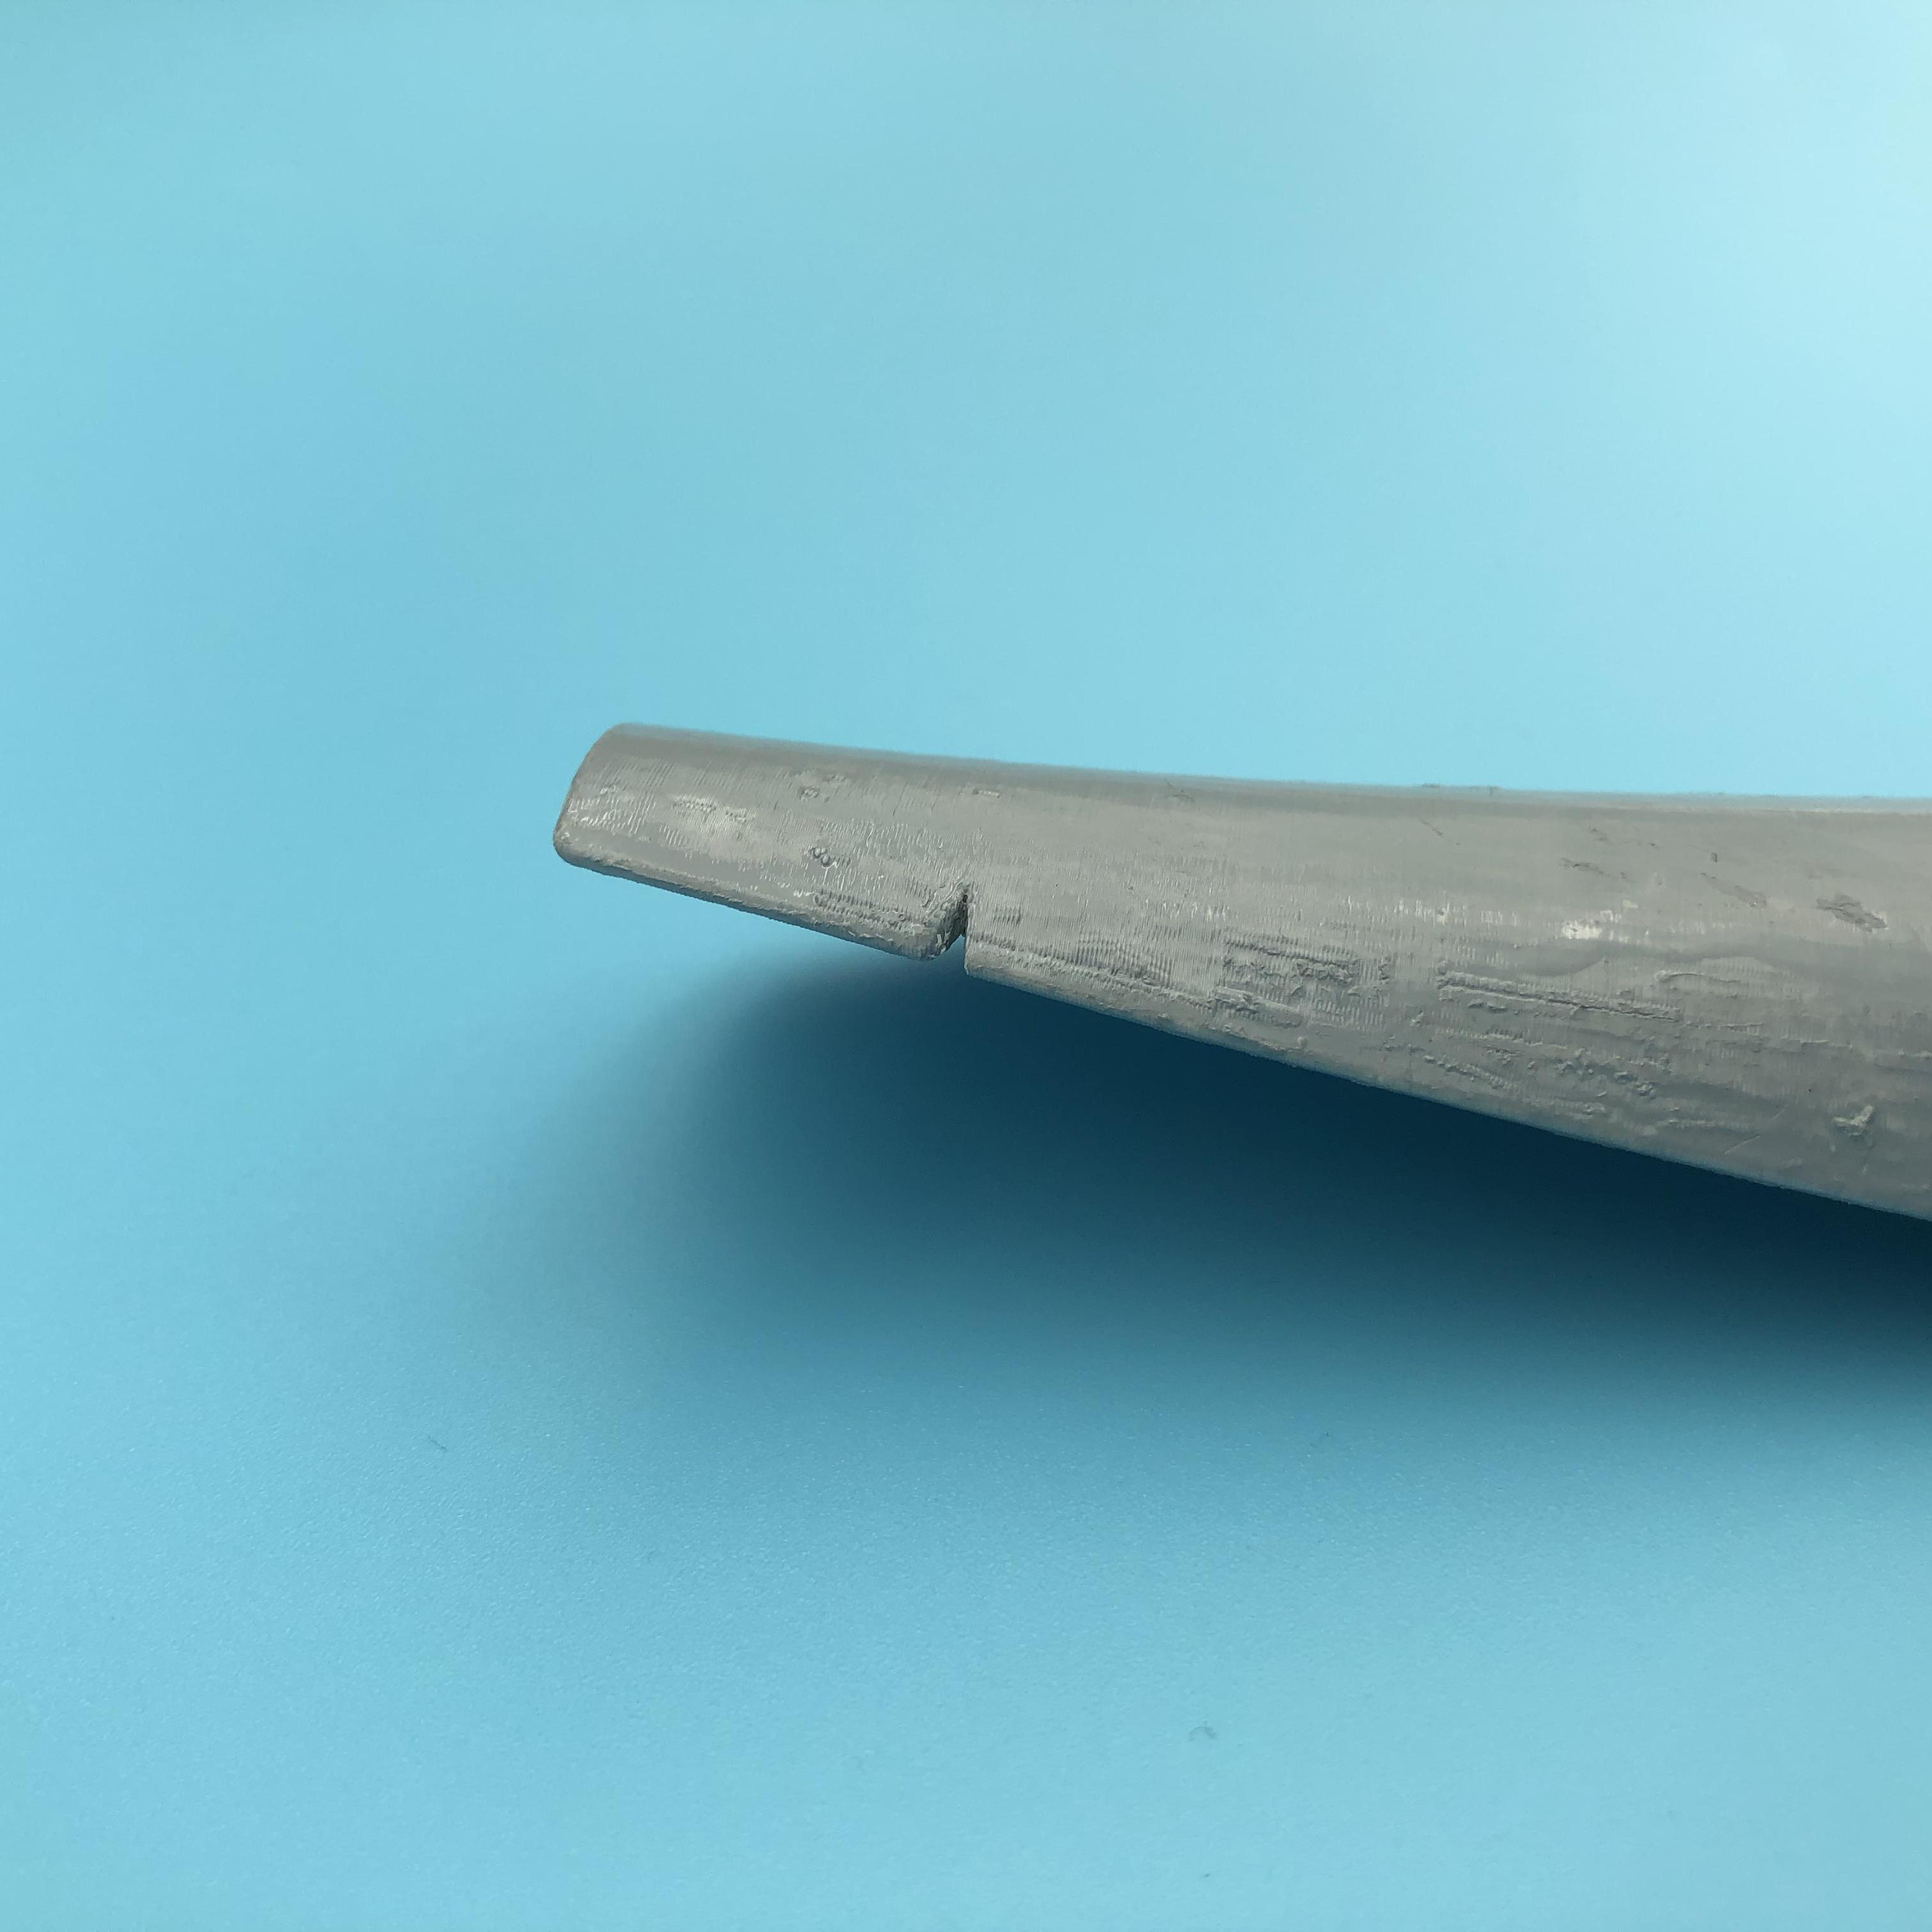groove: (911, 885, 1008, 973)
